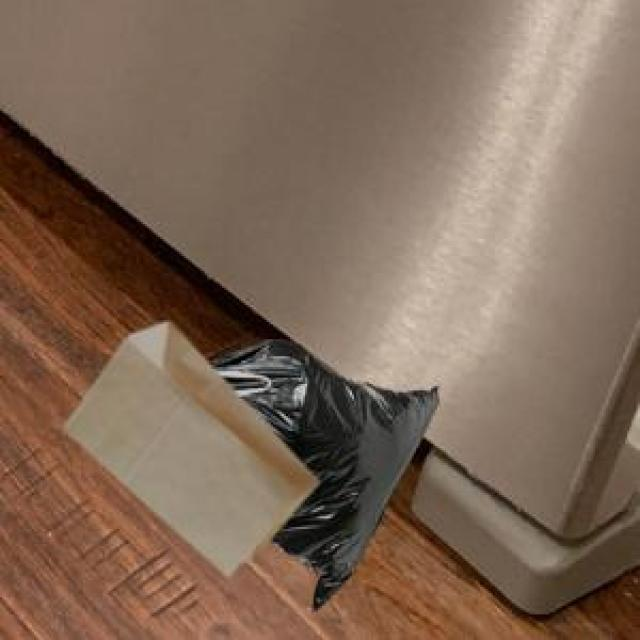miscellaneous trash: (207, 337, 435, 606)
paper: (60, 318, 314, 572)
